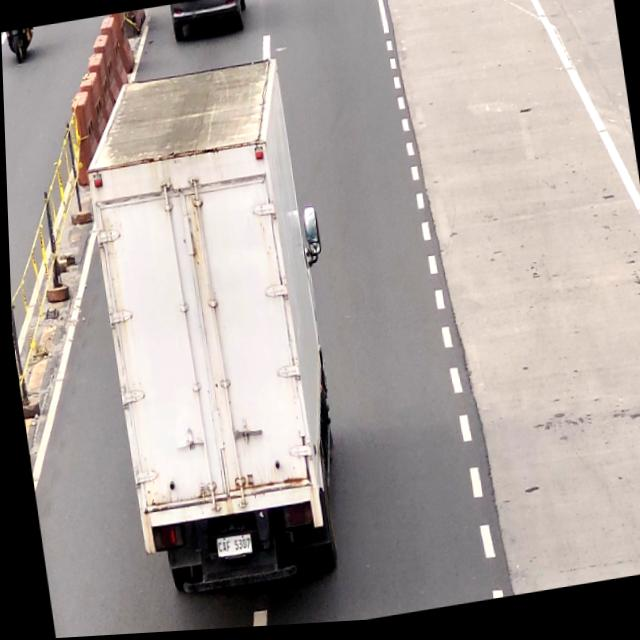Car: (168, 0, 249, 42)
License-Plate: (207, 533, 250, 565)
Truck: (75, 59, 347, 607)
